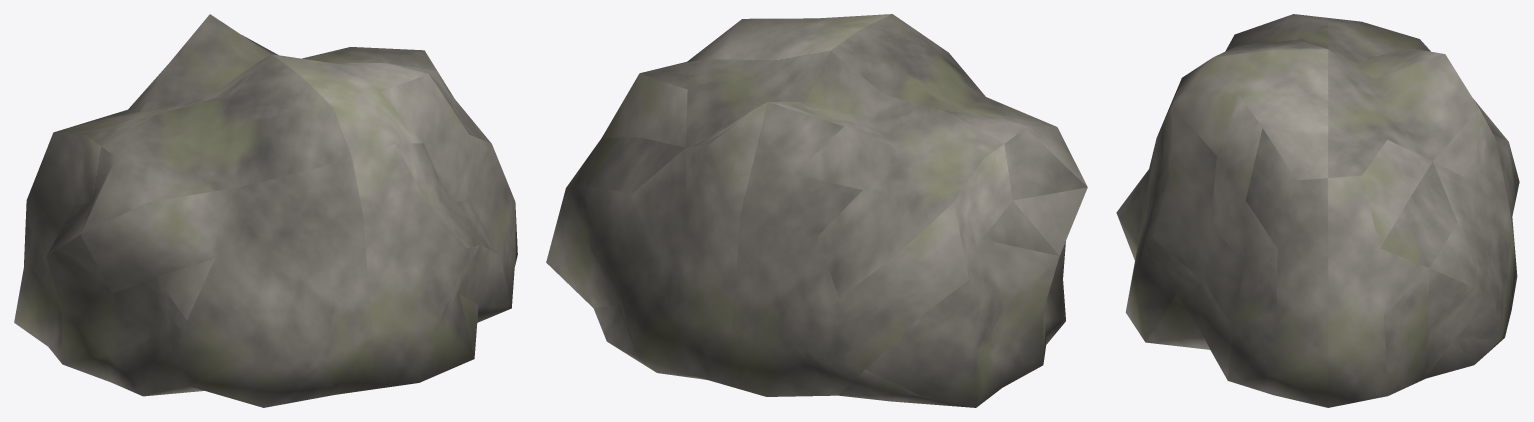
File: Rock_Water_2_LOD1.gltf
3 renders of one model, left to right at view 1: azimuth 30°, elevation 25°; view 2: azimuth 150°, elevation 25°; view 3: azimuth 270°, elevation 25°, orthographic. The views are drawn at different scales.
Parts seen in each view (by area): view 1: Rock_Water_2_LOD1; view 2: Rock_Water_2_LOD1; view 3: Rock_Water_2_LOD1.
Part boxes in pixels (x1,y1,x2,y2): Rock_Water_2_LOD1: (14, 14, 517, 407); Rock_Water_2_LOD1: (546, 14, 1087, 407); Rock_Water_2_LOD1: (1116, 14, 1519, 407).
Bounding box in the file's own units: 2.82 × 1.61 × 2.2.
Materials: 1 (1 with a texture image).
